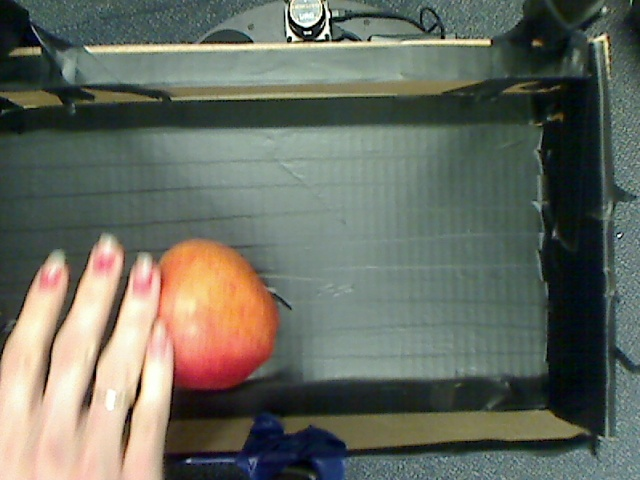apple: (139, 225, 292, 404)
